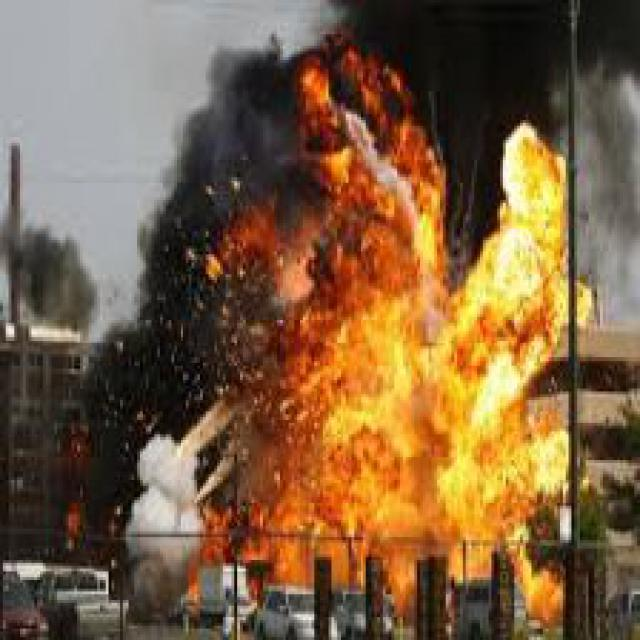fire: (180, 49, 583, 560)
